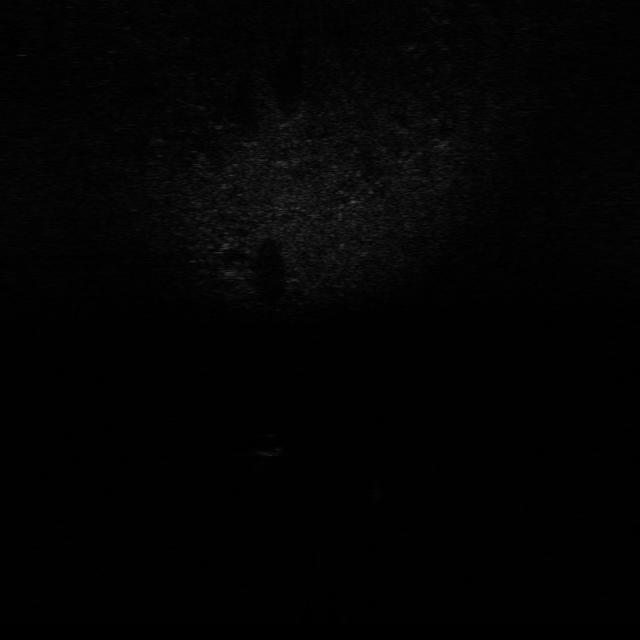ball: (248, 430, 291, 458)
